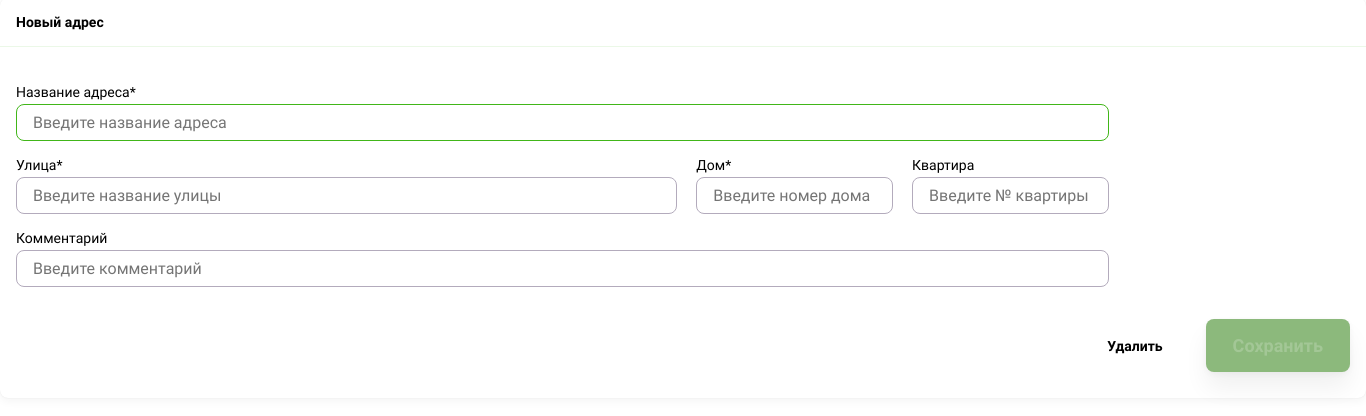
Scenario: ProfileAddressForm › both add and edit modes › submit button not disabled when required fields are not empty
Type "New Address" into the field labelled "Название адреса*".
click(562, 122); type("New Address")  # box 16,104 -> 1109,141
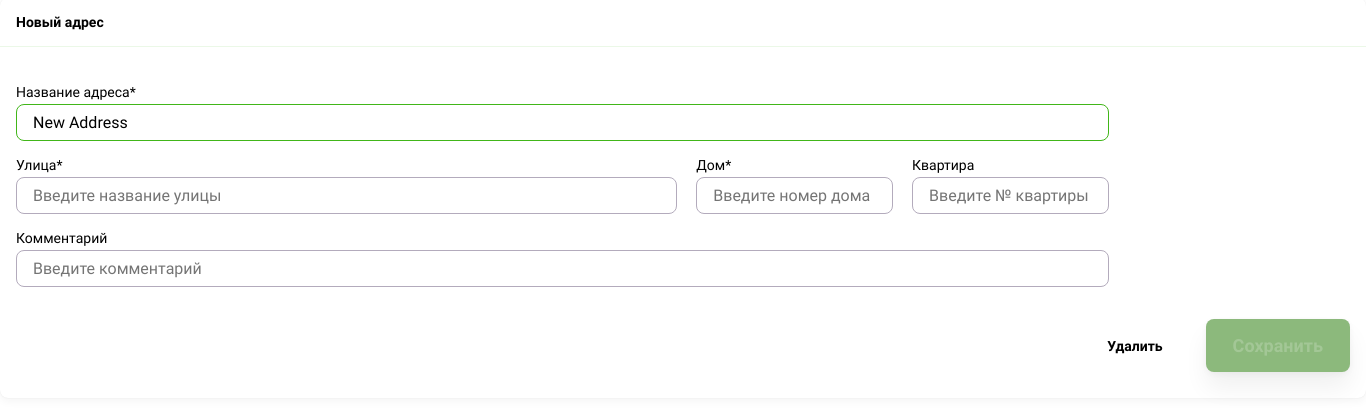
Type "Baker street" into the field labelled "Улица*".
click(347, 196); type("Baker street")  # box 16,177 -> 677,214
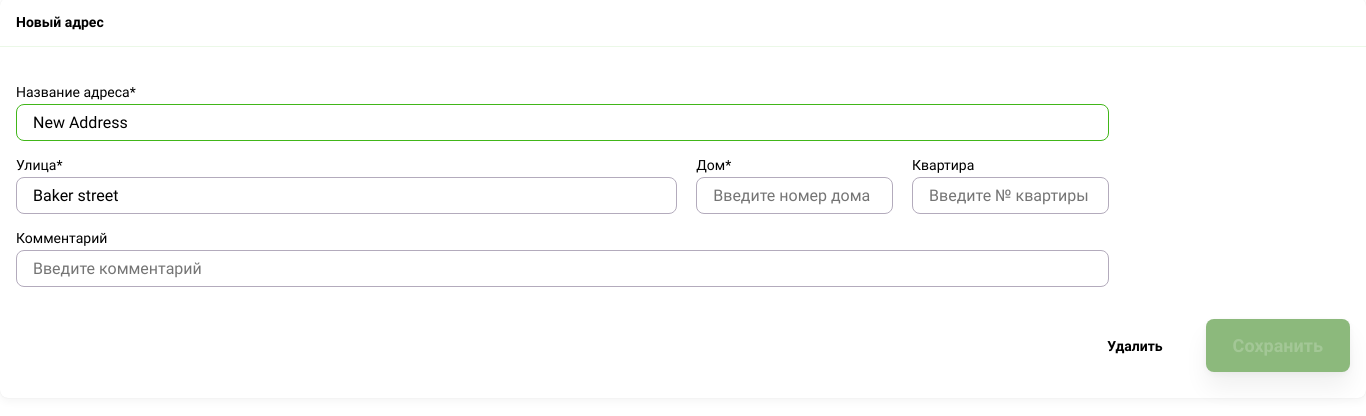
Type "1" into the field labelled "Дом*".
click(795, 196); type("1")  # box 696,177 -> 893,214
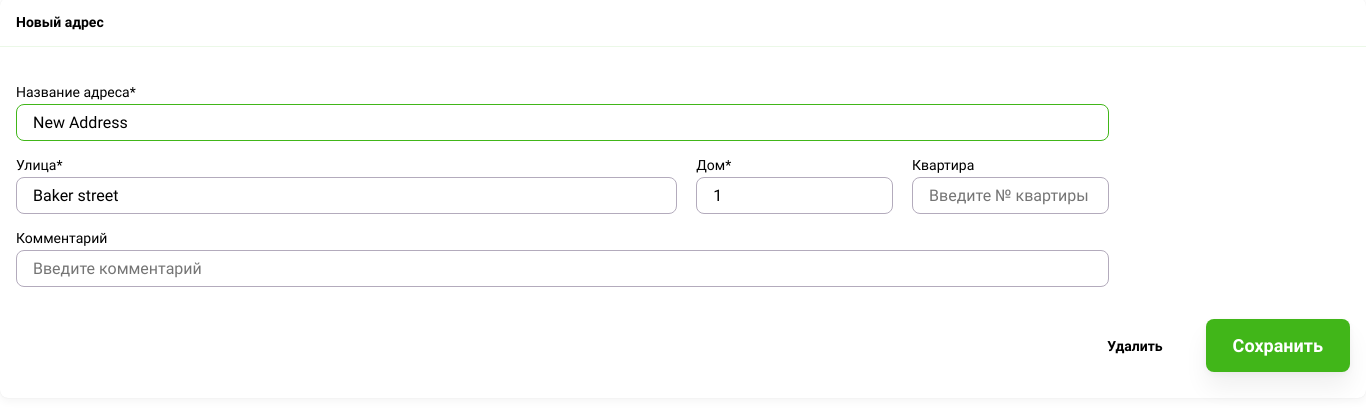
Expected: the submit button is enabled, 1206,319 -> 1350,372
